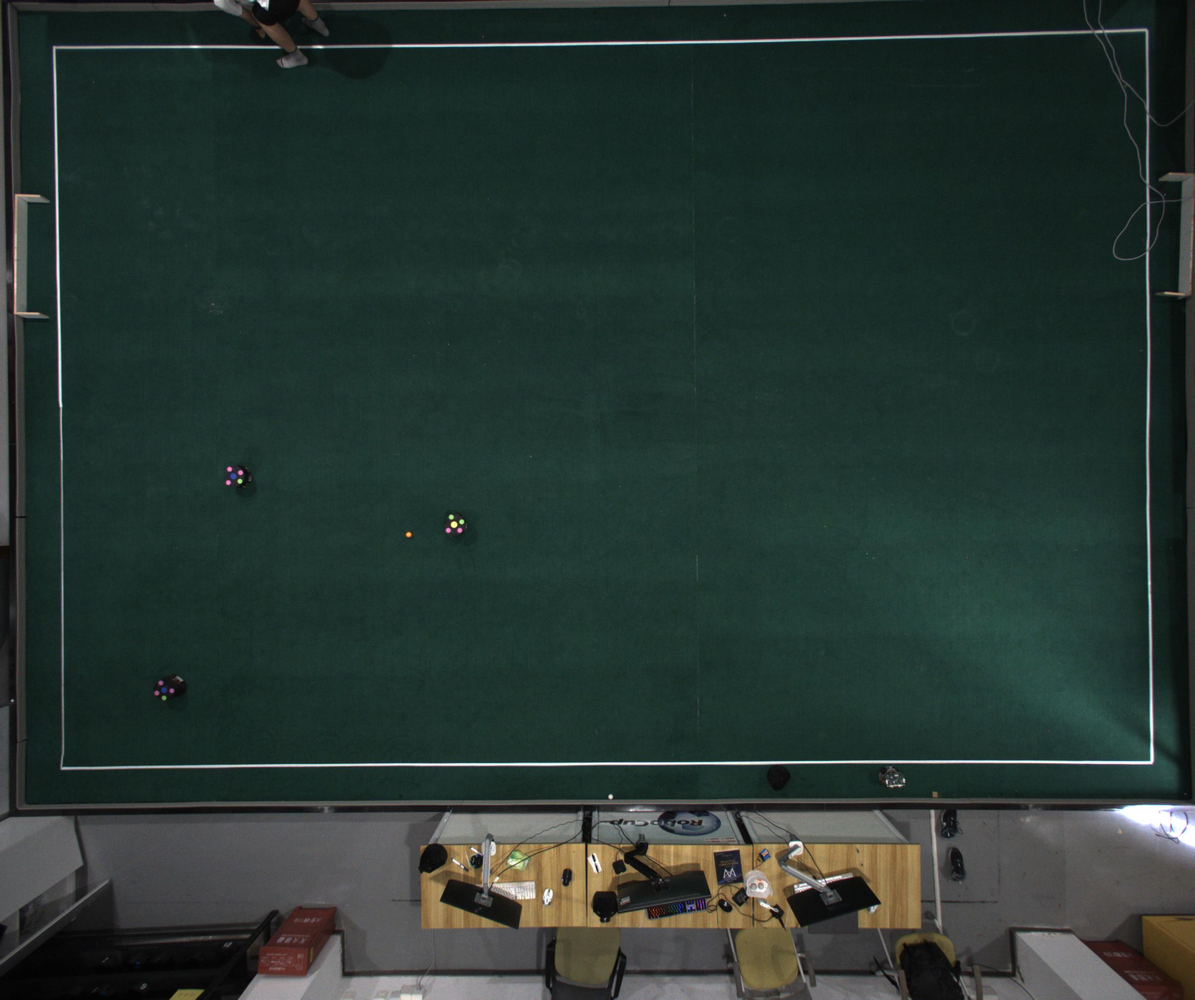ball: (405, 532, 412, 538)
blue_bot: (152, 676, 177, 703), (225, 465, 245, 489)
yellow_bot: (444, 513, 467, 537)
